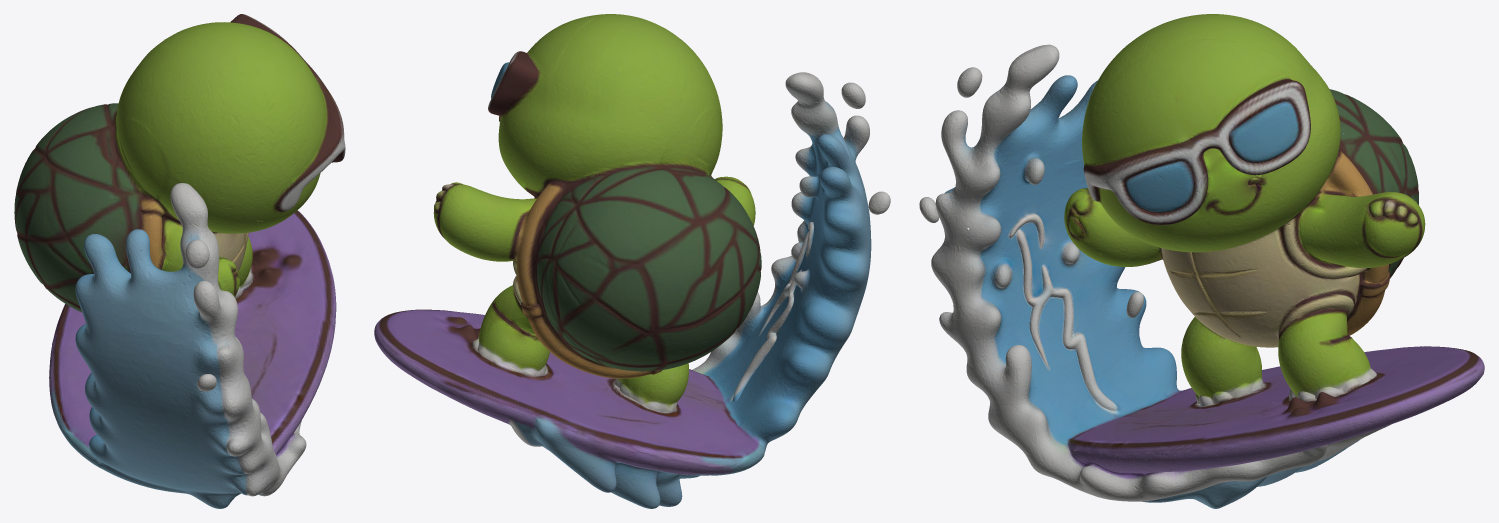
The model's file is surferturtle-v2.glb.
3 renders of one model, left to right at view 1: azimuth 30°, elevation 25°; view 2: azimuth 150°, elevation 25°; view 3: azimuth 270°, elevation 25°, orthographic. The views are drawn at different scales.
Visible parts, largest first — view 1: tripo_node_030e82a0-b7e2-4e45-a27d-1966c2bc1770; view 2: tripo_node_030e82a0-b7e2-4e45-a27d-1966c2bc1770; view 3: tripo_node_030e82a0-b7e2-4e45-a27d-1966c2bc1770.
Part boxes in pixels (left/top/right/bottom): tripo_node_030e82a0-b7e2-4e45-a27d-1966c2bc1770: left=14, top=14, right=345, bottom=508; tripo_node_030e82a0-b7e2-4e45-a27d-1966c2bc1770: left=374, top=14, right=890, bottom=508; tripo_node_030e82a0-b7e2-4e45-a27d-1966c2bc1770: left=919, top=14, right=1484, bottom=508.
Bounding box in the file's own units: 0.8095 × 0.9626 × 1.
1 material, 1 textured.
